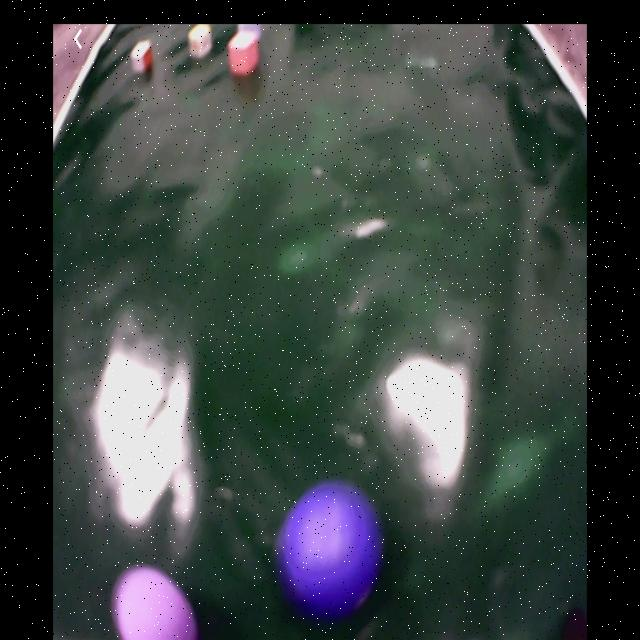ball: (279, 480, 371, 609), (112, 566, 197, 640)
